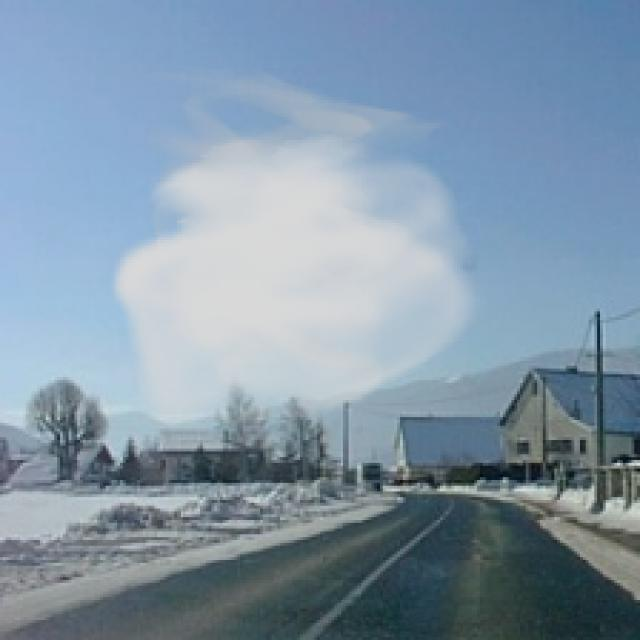Smoke: (109, 62, 488, 434)
